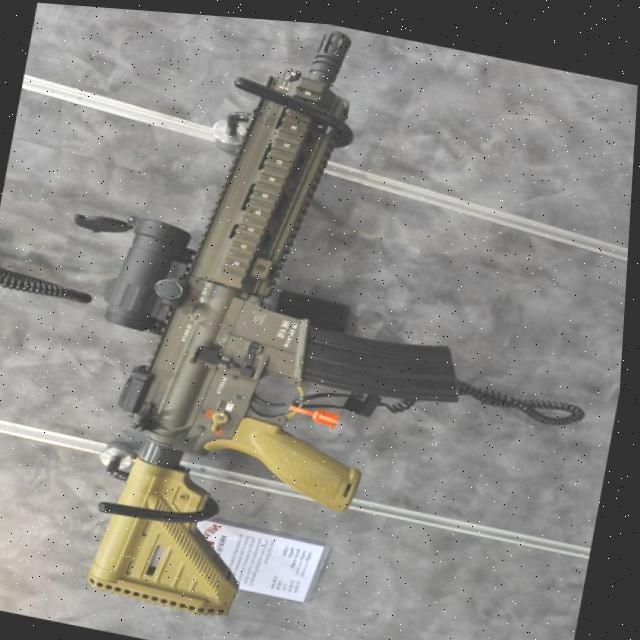firearm: (53, 5, 517, 640)
